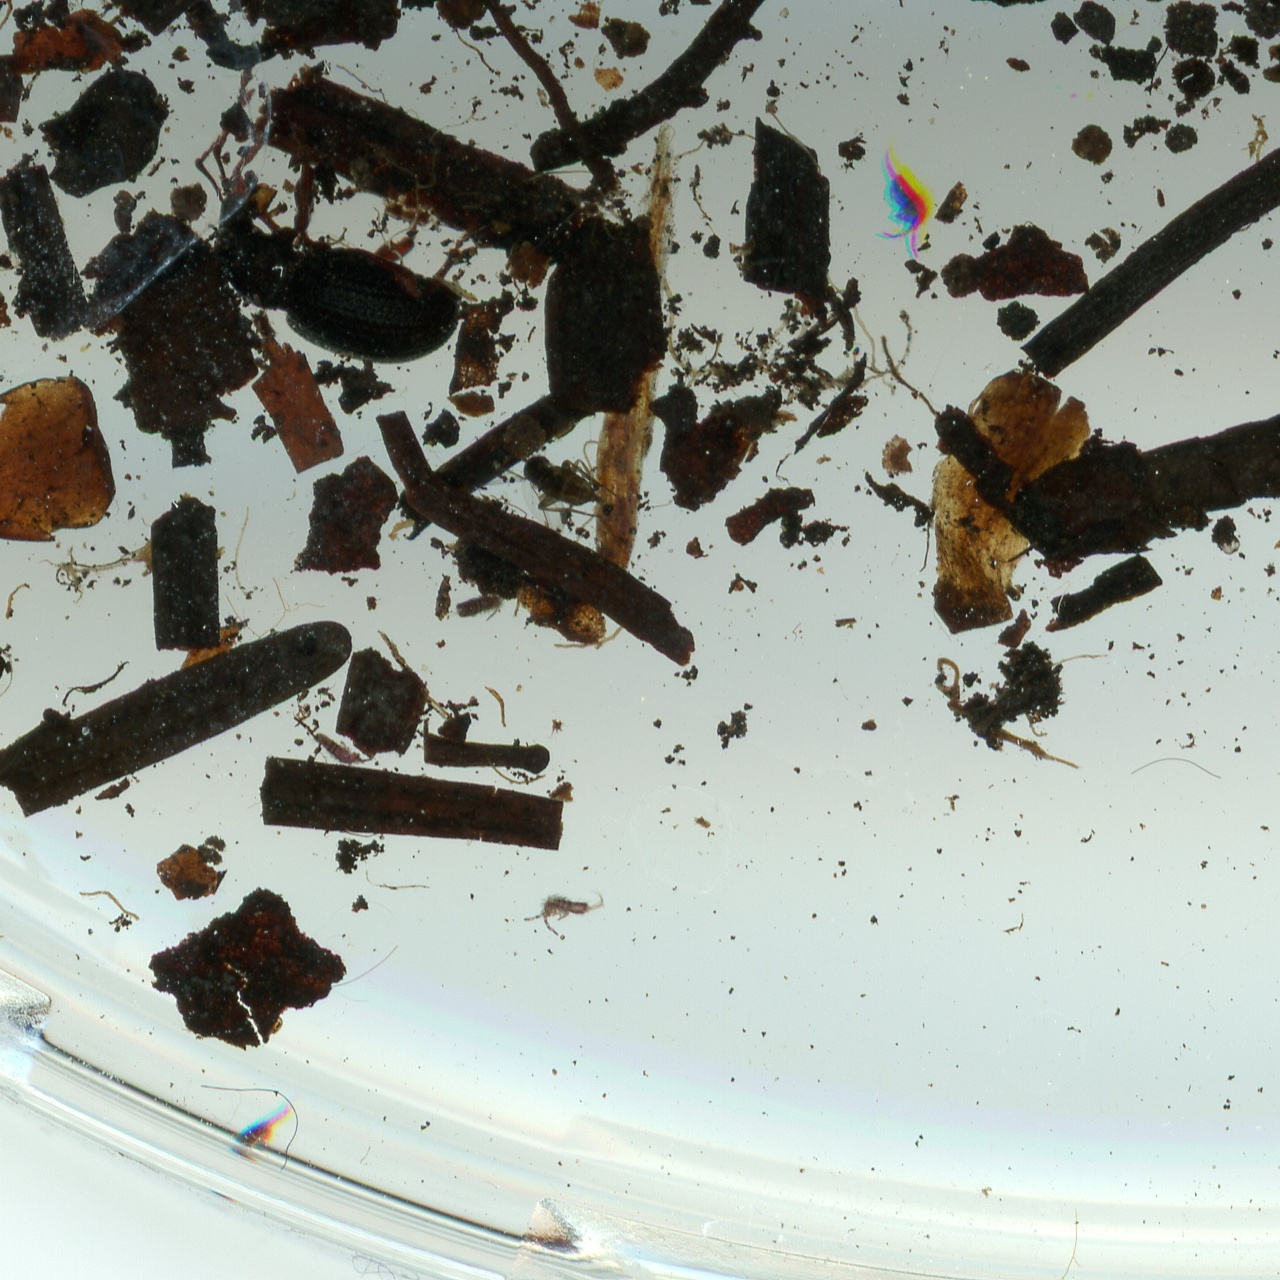arthropod: (213, 193, 462, 363), (519, 452, 607, 519), (879, 148, 925, 256), (524, 890, 607, 939), (295, 715, 373, 767), (230, 1102, 297, 1155)
